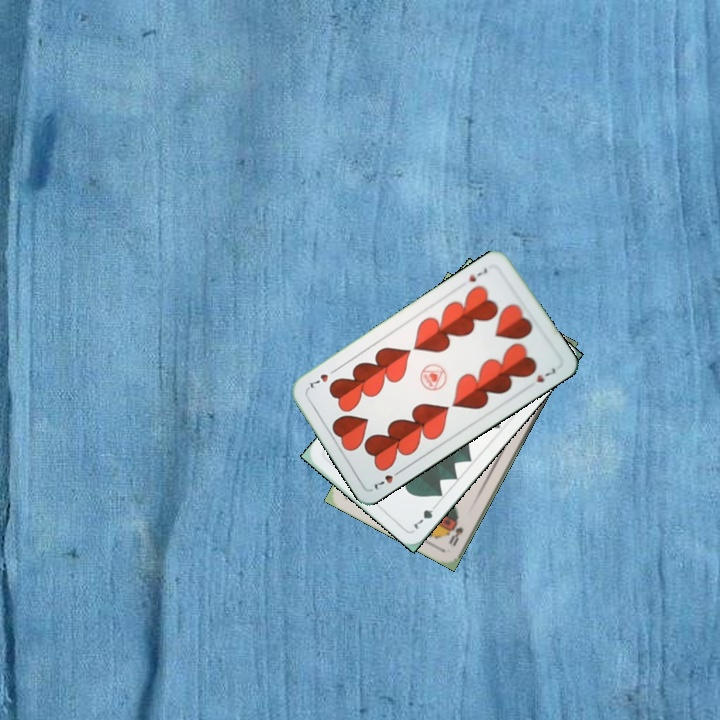G7: (407, 499, 441, 532)
H7: (370, 465, 405, 492), (465, 264, 490, 285)
SO: (445, 517, 466, 549)
